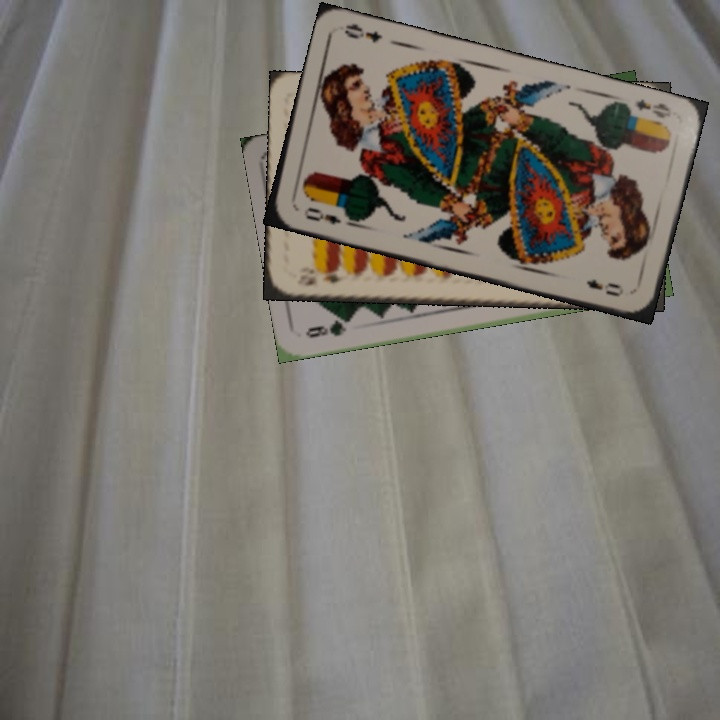E10: (301, 266, 348, 288)
EO: (632, 95, 674, 121), (299, 203, 344, 227)
G9: (302, 314, 356, 340)
